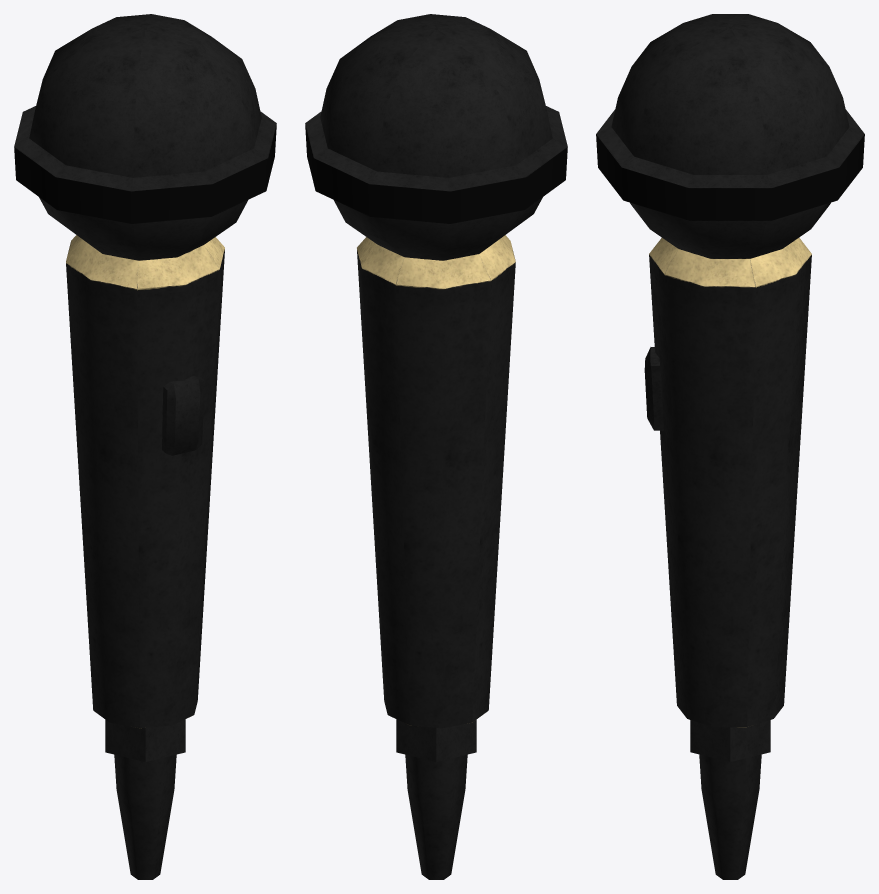
The model's file is mic.glb.
3 renders of one model, left to right at view 1: azimuth 30°, elevation 25°; view 2: azimuth 150°, elevation 25°; view 3: azimuth 270°, elevation 25°, orthographic.
Parts seen in each view (by area): view 1: g; view 2: g; view 3: g.
Boxes of the visible parts, left/top/right/bottom form: g: left=14, top=14, right=276, bottom=879; g: left=305, top=14, right=567, bottom=879; g: left=596, top=14, right=864, bottom=879.
Size of the model in its own units: 0.5473 by 2 by 0.5755.
Materials: 2 (2 with a texture image).
